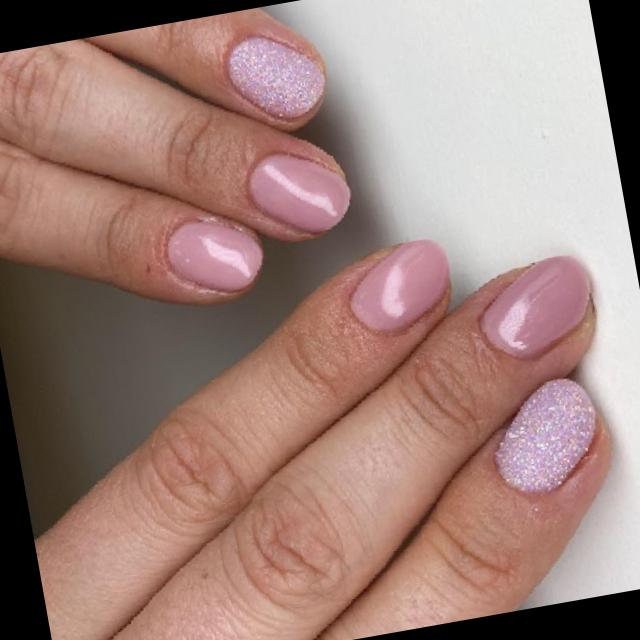Nail: (480, 255, 589, 357), (495, 379, 594, 491), (350, 239, 448, 331), (248, 152, 350, 232), (227, 35, 325, 118), (167, 218, 263, 291)
